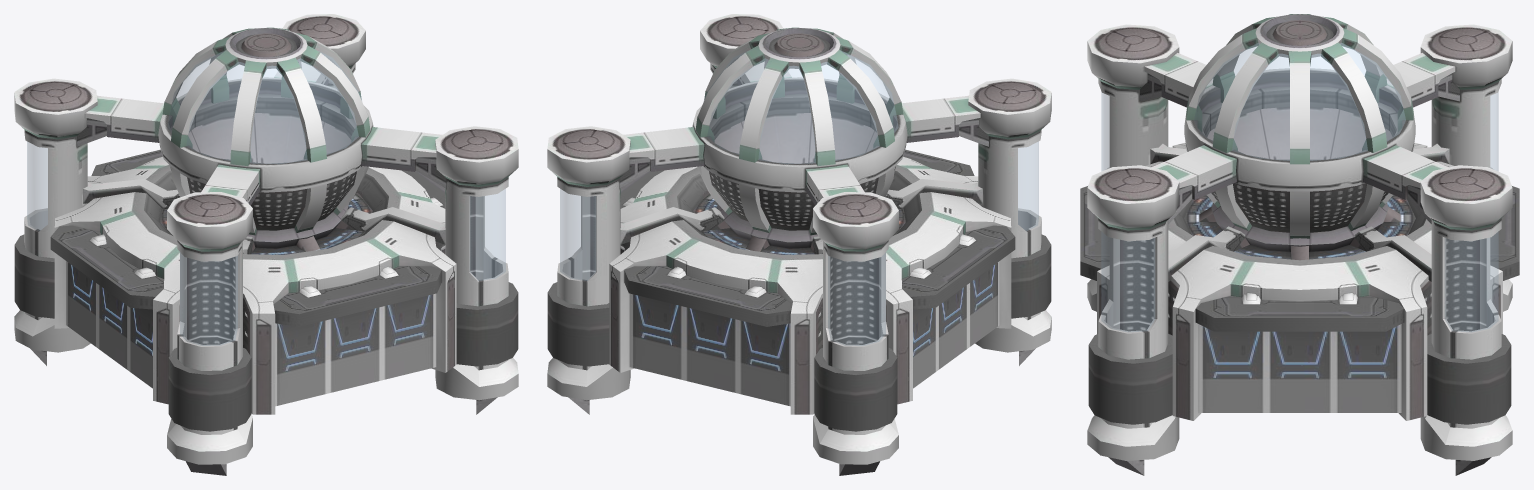
3 views of the same model, side by side, from view 1: azimuth 30°, elevation 25°; view 2: azimuth 150°, elevation 25°; view 3: azimuth 270°, elevation 25° (orthographic). The views are drawn at different scales.
Visible parts, largest first — view 1: lab; view 2: lab; view 3: lab.
Part boxes in pixels (x1,y1,x2,y2): lab: (14,14,518,475); lab: (547,14,1051,475); lab: (1080,14,1519,475).
Bounding box in the file's own units: 6.2 × 5.73 × 6.2.
Materials: 2 (1 with a texture image).
